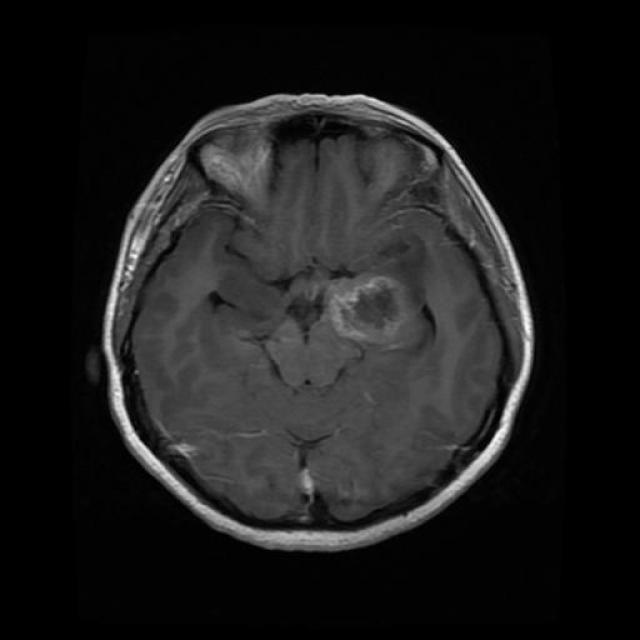glioma: (312, 254, 443, 362)
